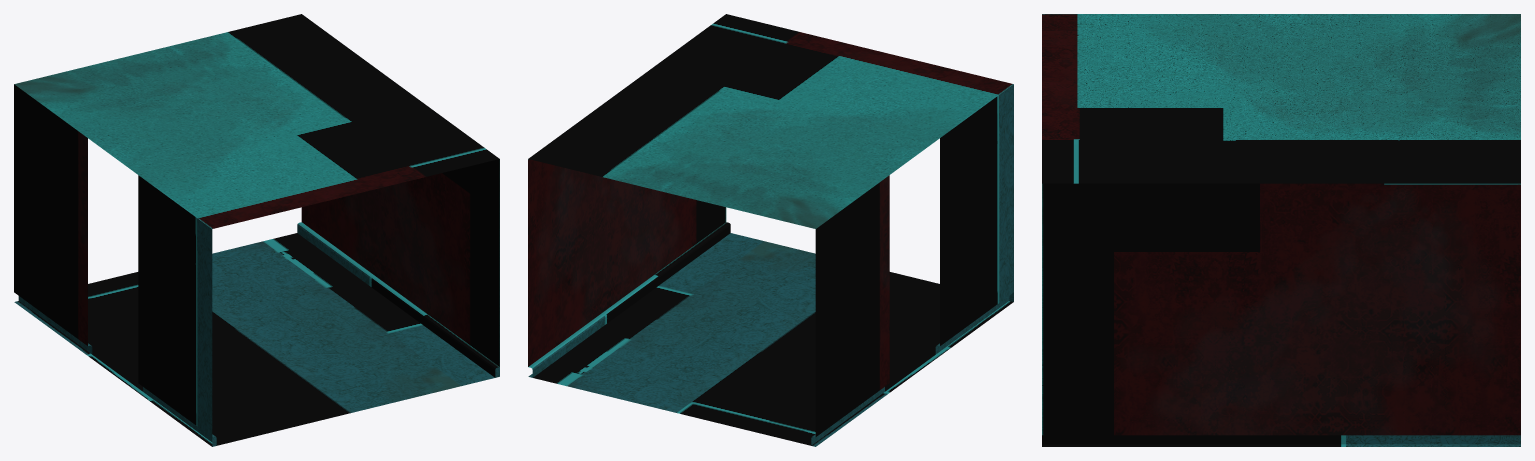
Rendered from koridorSolOrta.fbx.
3 renders of one model, left to right at view 1: azimuth 30°, elevation 25°; view 2: azimuth 150°, elevation 25°; view 3: azimuth 270°, elevation 25°, orthographic. The views are drawn at different scales.
Parts seen in each view (by area): view 1: solOrta; view 2: solOrta; view 3: solOrta.
Boxes of the visible parts, bbox=[...] form: solOrta: bbox=[14, 14, 499, 446]; solOrta: bbox=[528, 14, 1013, 446]; solOrta: bbox=[1042, 14, 1520, 446].
Size of the model in its own units: 622 by 450 by 742.
